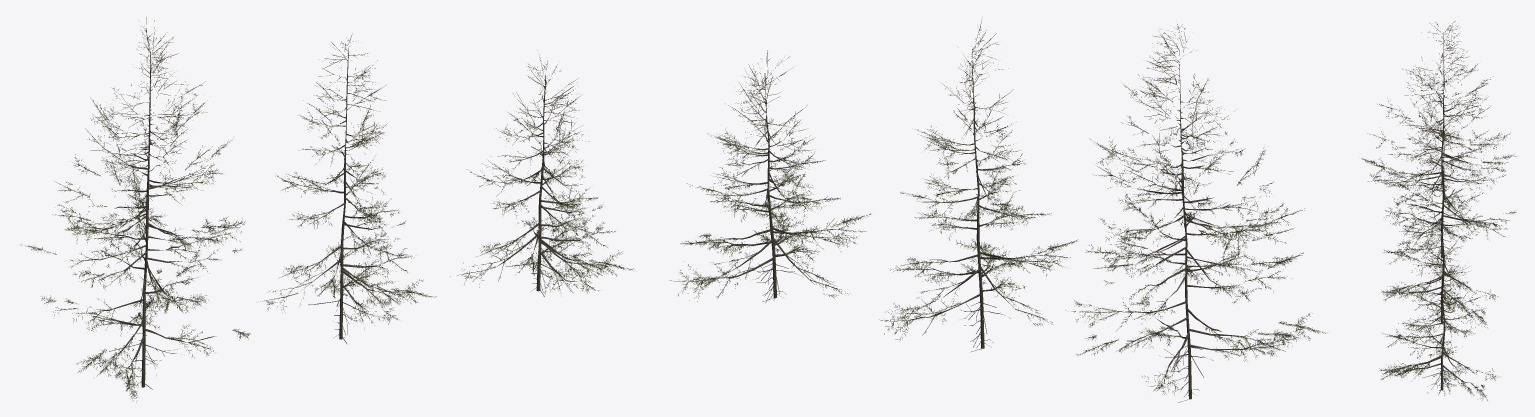
File: fir_sapling_medium.glb
3 renders of one model, left to right at view 1: azimuth 30°, elevation 25°; view 2: azimuth 150°, elevation 25°; view 3: azimuth 270°, elevation 25°, orthographic. The views are drawn at different scales.
Parts seen in each view (by area): view 1: fir_sapling_medium_a_LOD0, fir_sapling_medium_b_LOD0, fir_sapling_medium_c_LOD0; view 2: fir_sapling_medium_a_LOD0, fir_sapling_medium_b_LOD0, fir_sapling_medium_c_LOD0; view 3: fir_sapling_medium_a_LOD0, fir_sapling_medium_b_LOD0, fir_sapling_medium_c_LOD0.
Boxes of the visible parts, box(x1,y1,x2,y2) form: fir_sapling_medium_a_LOD0: box(20, 17, 250, 402); fir_sapling_medium_b_LOD0: box(260, 34, 436, 344); fir_sapling_medium_c_LOD0: box(450, 54, 633, 296); fir_sapling_medium_a_LOD0: box(1065, 24, 1327, 402); fir_sapling_medium_b_LOD0: box(879, 19, 1078, 352); fir_sapling_medium_c_LOD0: box(669, 50, 871, 302); fir_sapling_medium_a_LOD0: box(1361, 21, 1516, 262); fir_sapling_medium_b_LOD0: box(1381, 114, 1498, 328); fir_sapling_medium_c_LOD0: box(1379, 231, 1500, 400).
Bounding box in the file's own units: 14.68 × 8.84 × 5.18.
Materials: 3 (3 with a texture image).
